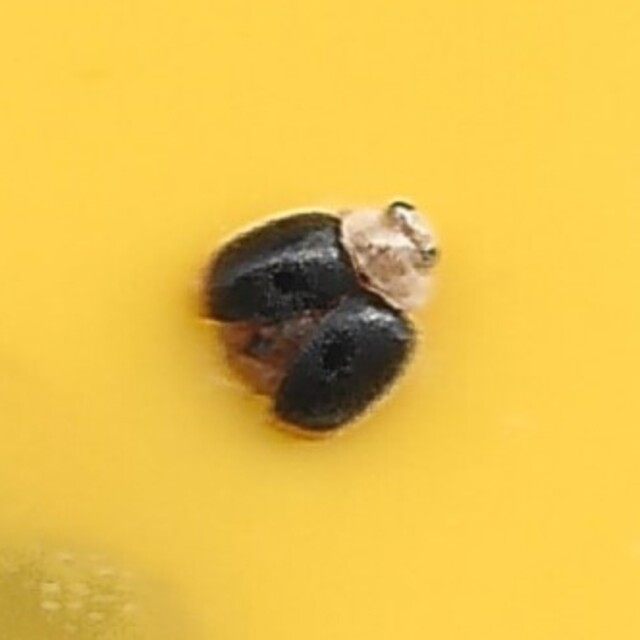Coleoptera: (193, 196, 447, 444)
